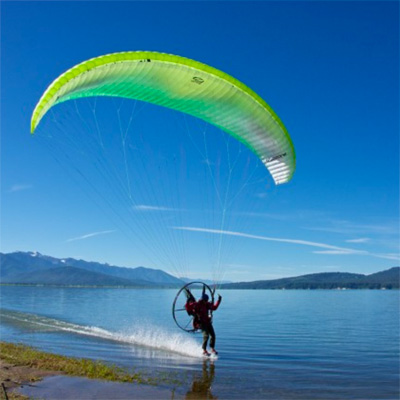Paraglider: (16, 46, 305, 190)
